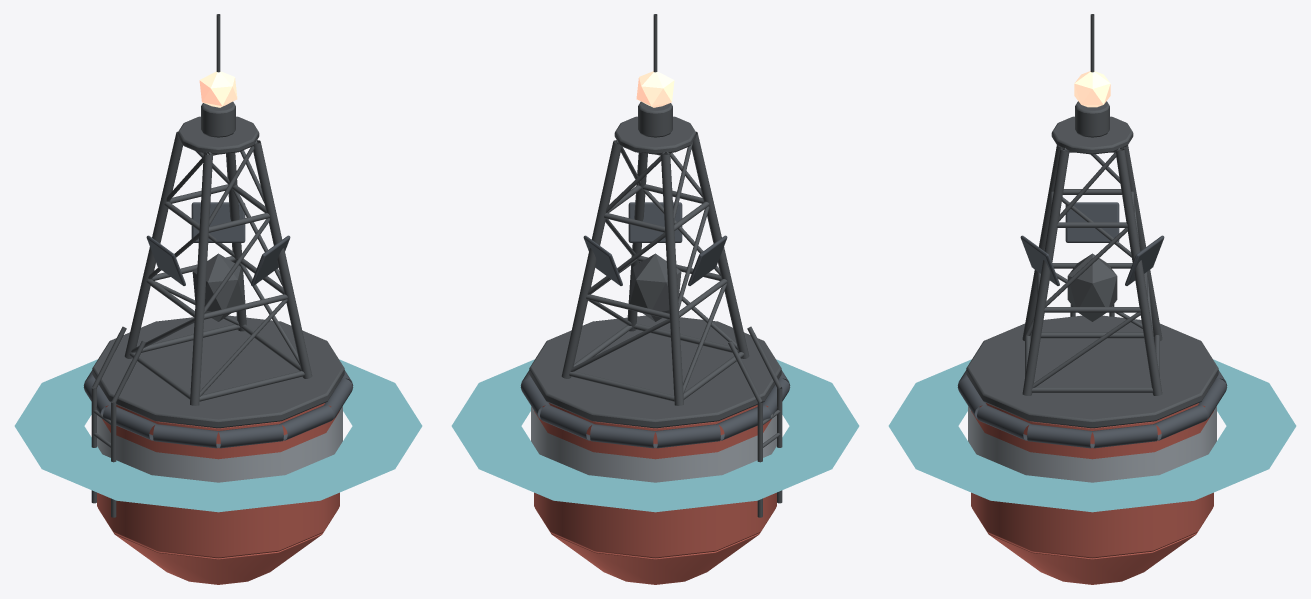
The model's file is buoy.glb.
3 views of the same model, side by side, from view 1: azimuth 30°, elevation 25°; view 2: azimuth 150°, elevation 25°; view 3: azimuth 270°, elevation 25° (orthographic).
Parts seen in each view (by area): view 1: buoy; view 2: buoy; view 3: buoy.
Boxes of the visible parts, left/top/right/bottom form: buoy: left=14, top=14, right=422, bottom=584; buoy: left=451, top=14, right=859, bottom=584; buoy: left=888, top=14, right=1296, bottom=584.
Size of the model in its own units: 4.2 by 6.2 by 4.2.
